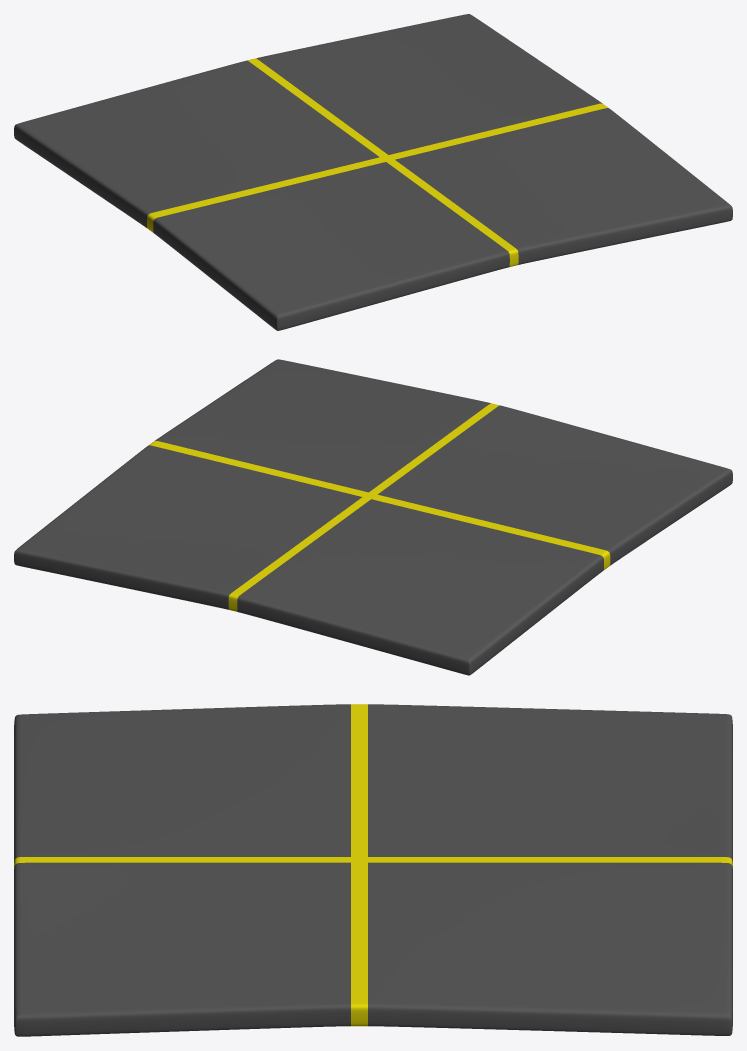
Rendered from AsphaltCross_LP_FBX.fbx.
3 views of the same model, one above another, from view 1: azimuth 30°, elevation 25°; view 2: azimuth 150°, elevation 25°; view 3: azimuth 270°, elevation 25° (orthographic). The views are drawn at different scales.
Visible parts, largest first — view 1: pCube40; view 2: pCube40; view 3: pCube40.
Boxes of the visible parts, x1,y1,x2,y2 form: pCube40: (14,14,732,330); pCube40: (14,359,732,675); pCube40: (14,704,732,1036).
Size of the model in its own units: 900 by 44.32 by 900.
